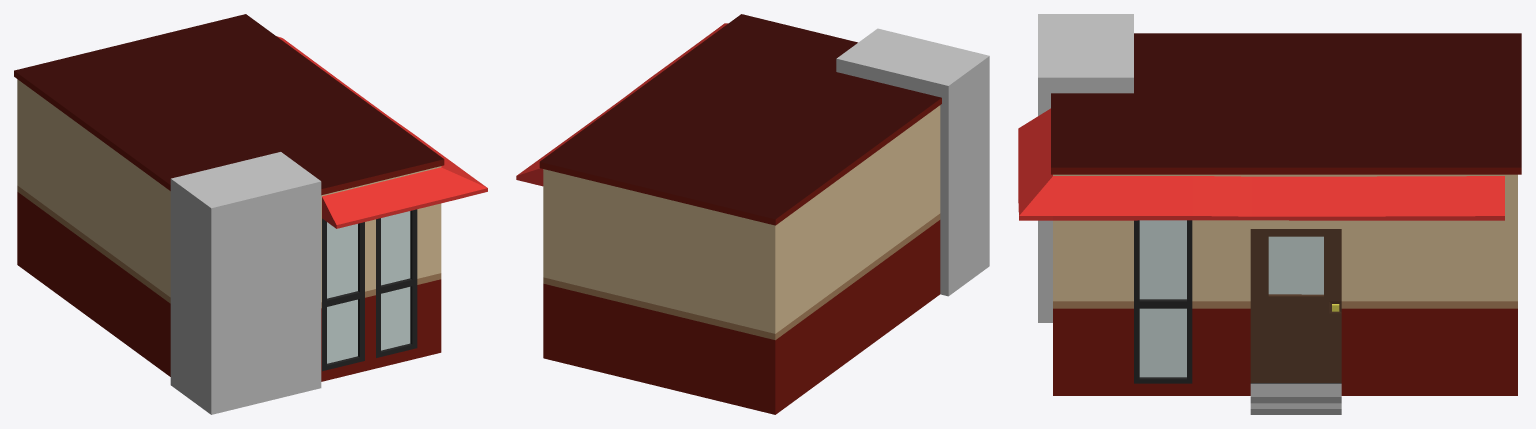
3 renders of one model, left to right at view 1: azimuth 30°, elevation 25°; view 2: azimuth 150°, elevation 25°; view 3: azimuth 270°, elevation 25°, orthographic. The views are drawn at different scales.
Parts seen in each view (by area): view 1: Building, Roof, Building.001; view 2: Building, Roof, Building.001; view 3: Building, Roof, Actual Door, Building.001.
Part boxes in pixels (x1,y1,x2,y2): Building: (17, 36, 487, 381); Roof: (14, 14, 444, 195); Building.001: (170, 152, 321, 414); Building: (516, 23, 940, 414); Roof: (539, 14, 941, 225); Building.001: (836, 28, 989, 296); Building: (1018, 108, 1517, 414); Roof: (1051, 33, 1521, 174); Actual Door: (1250, 229, 1341, 382); Building.001: (1038, 14, 1133, 322).
Bounding box in the file's own units: 4287 × 3145 × 5849.
